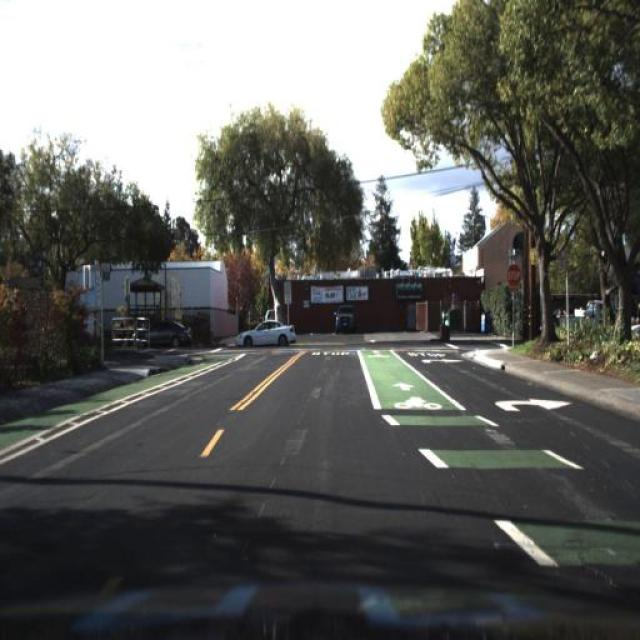car: (556, 293, 636, 342), (238, 316, 298, 352), (136, 312, 192, 348), (331, 301, 363, 343)
